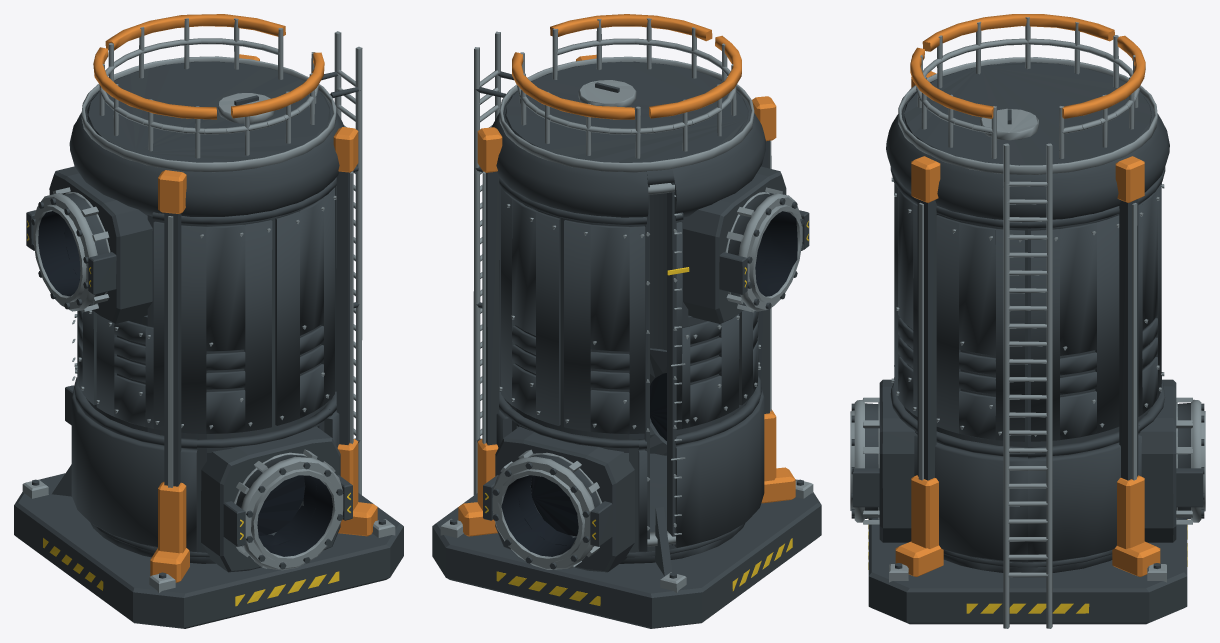
File: SM_AdvancedFluidBuffer_LOD1.fbx
3 views of the same model, side by side, from view 1: azimuth 30°, elevation 25°; view 2: azimuth 150°, elevation 25°; view 3: azimuth 270°, elevation 25° (orthographic).
Parts seen in each view (by area): view 1: SM_OverflowTank_LOD1; view 2: SM_OverflowTank_LOD1; view 3: SM_OverflowTank_LOD1.
Part boxes in pixels (<box>): SM_OverflowTank_LOD1: <box>14,14,403,628</box>; SM_OverflowTank_LOD1: <box>432,14,821,628</box>; SM_OverflowTank_LOD1: <box>850,14,1205,628</box>.
Bounding box in the file's own units: 563 × 580 × 893.
